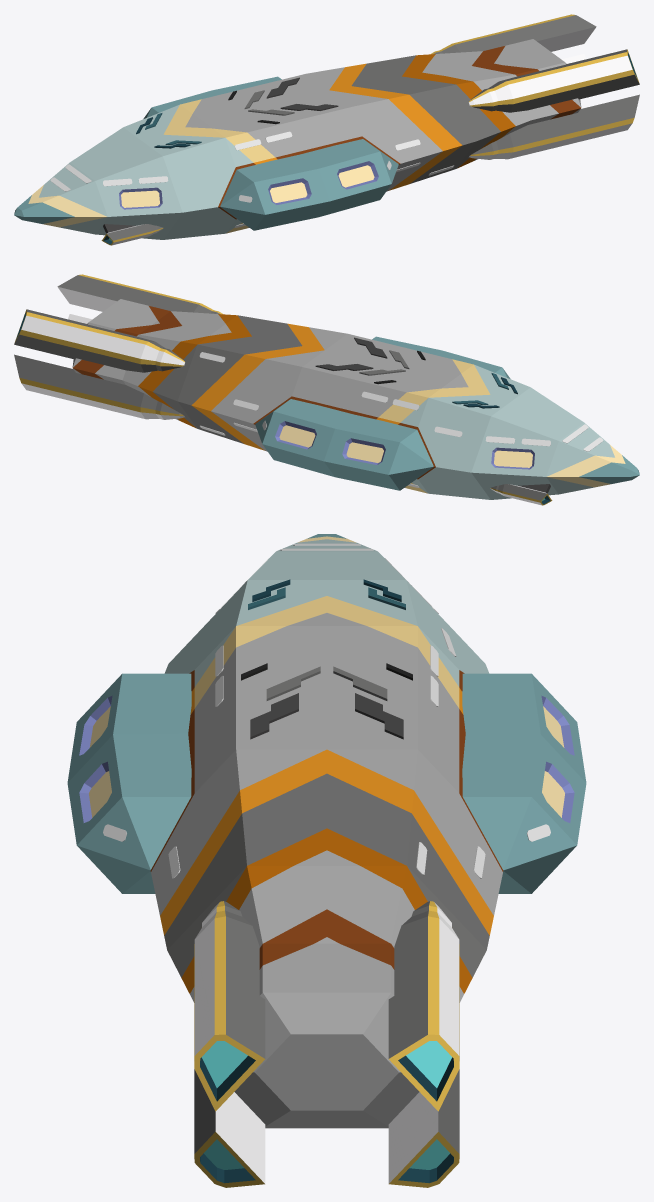
Rendered from ship.fbx.
3 renders of one model, top to bottom at view 1: azimuth 30°, elevation 25°; view 2: azimuth 150°, elevation 25°; view 3: azimuth 270°, elevation 25°, orthographic. The views are drawn at different scales.
Parts seen in each view (by area): view 1: Ship3Body, Ship3Engines, Ship3Pods, Ship3Windows, Ship3Bits, Ship3EnginesFront; view 2: Ship3Body, Ship3Engines, Ship3Pods, Ship3Windows, Ship3Bits, Ship3EnginesFront; view 3: Ship3Body, Ship3Pods, Ship3Engines, Ship3Bits, Ship3Windows.
Part boxes in pixels (<box>): Ship3Body: <box>14,39,581,239</box>; Ship3Engines: <box>431,14,639,159</box>; Ship3Pods: <box>143,76,398,230</box>; Ship3Windows: <box>50,131,453,227</box>; Ship3Bits: <box>136,77,338,148</box>; Ship3EnginesFront: <box>101,224,163,245</box>; Ship3Body: <box>72,299,639,499</box>; Ship3Engines: <box>14,274,222,419</box>; Ship3Pods: <box>255,336,510,490</box>; Ship3Windows: <box>199,352,603,487</box>; Ship3Bits: <box>315,337,517,408</box>; Ship3EnginesFront: <box>490,484,552,505</box>; Ship3Body: <box>150,534,503,1128</box>; Ship3Pods: <box>67,673,586,893</box>; Ship3Engines: <box>194,901,459,1187</box>; Ship3Bits: <box>241,579,412,739</box>; Ship3Windows: <box>103,543,550,878</box>.
Bounding box in the file's own units: 532 × 82.55 × 200.
Materials: 2 (1 with a texture image).
